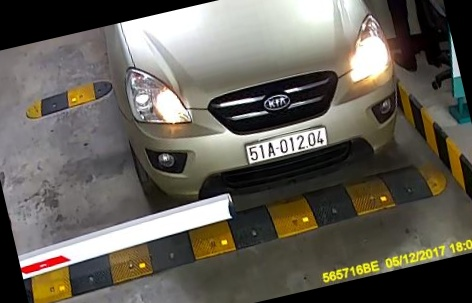plate: (243, 122, 327, 172)
